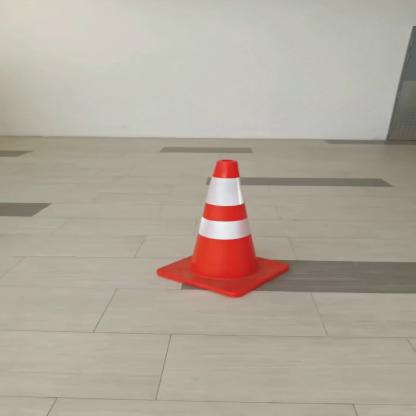cone: (152, 143, 302, 301)
